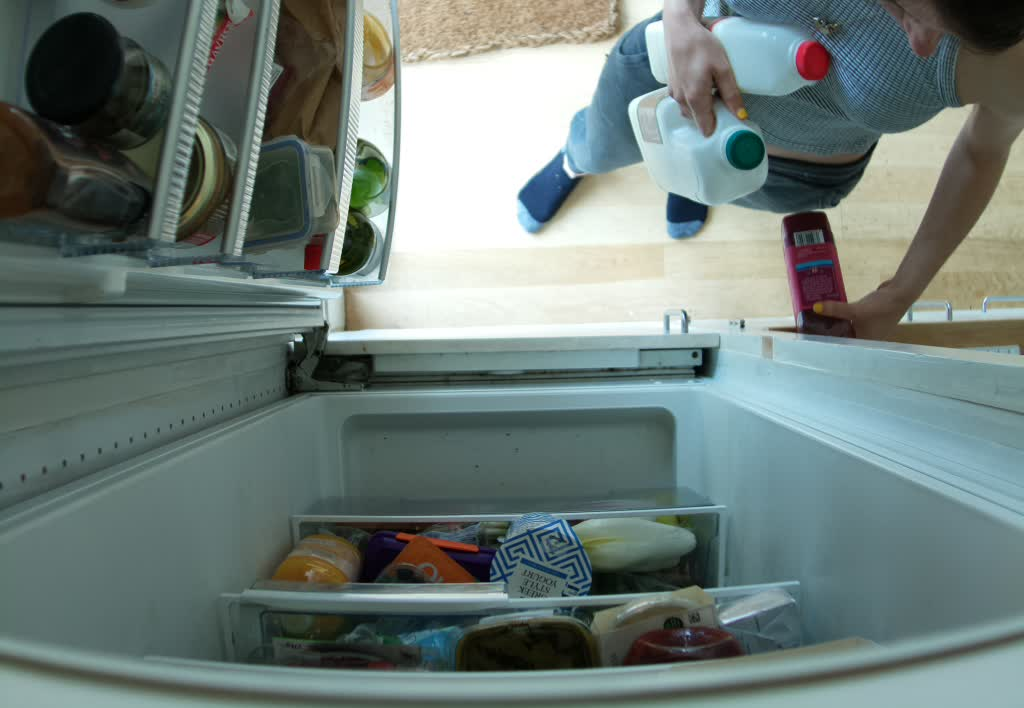juice: (782, 208, 861, 333)
milk: (626, 87, 770, 205), (645, 12, 833, 98)
